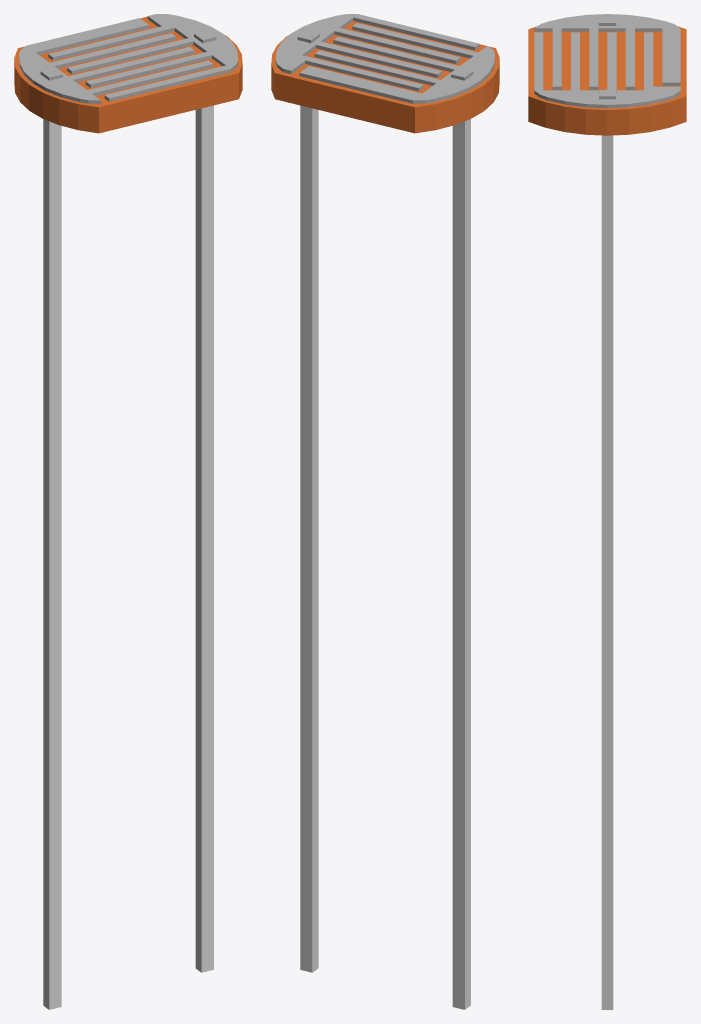
Rendered from Photoresistor.glb.
The picture shows the model from 3 angles, left to right: view 1: azimuth 30°, elevation 25°; view 2: azimuth 150°, elevation 25°; view 3: azimuth 270°, elevation 25°; orthographic projection. The views are drawn at different scales.
Visible parts, largest first — view 1: Photoresistor, Photoresistor.001, Photoresistor.002; view 2: Photoresistor, Photoresistor.001, Photoresistor.002; view 3: Photoresistor, Photoresistor.002.
Part boxes in pixels (left/top/right/bottom): Photoresistor: left=14, top=14, right=242, bottom=133; Photoresistor.001: left=43, top=119, right=61, bottom=1009; Photoresistor.002: left=195, top=105, right=213, bottom=972; Photoresistor: left=271, top=14, right=499, bottom=133; Photoresistor.001: left=452, top=119, right=470, bottom=1009; Photoresistor.002: left=300, top=105, right=318, bottom=972; Photoresistor: left=528, top=14, right=686, bottom=135; Photoresistor.002: left=601, top=135, right=613, bottom=1009.
Bounding box in the file's own units: 0.0932 × 0.4197 × 0.0659.
